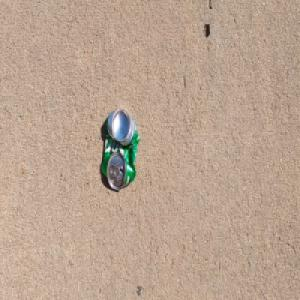SodaCan: (100, 107, 140, 192)
